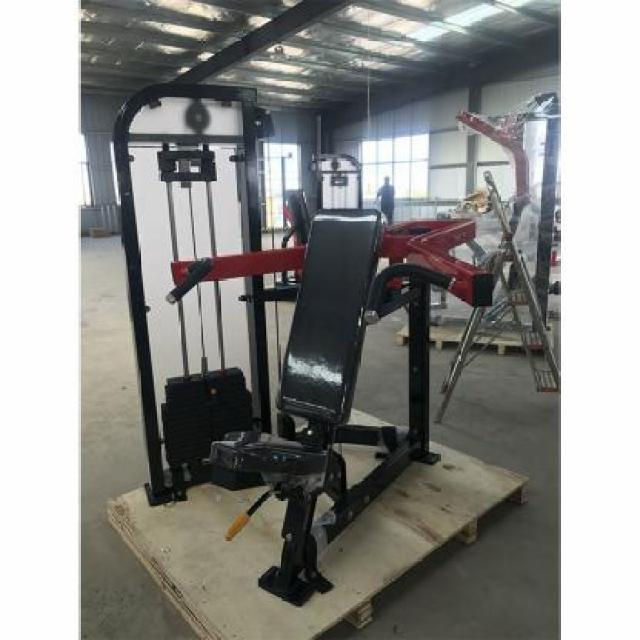shoulder press machine: (121, 209, 494, 606)
